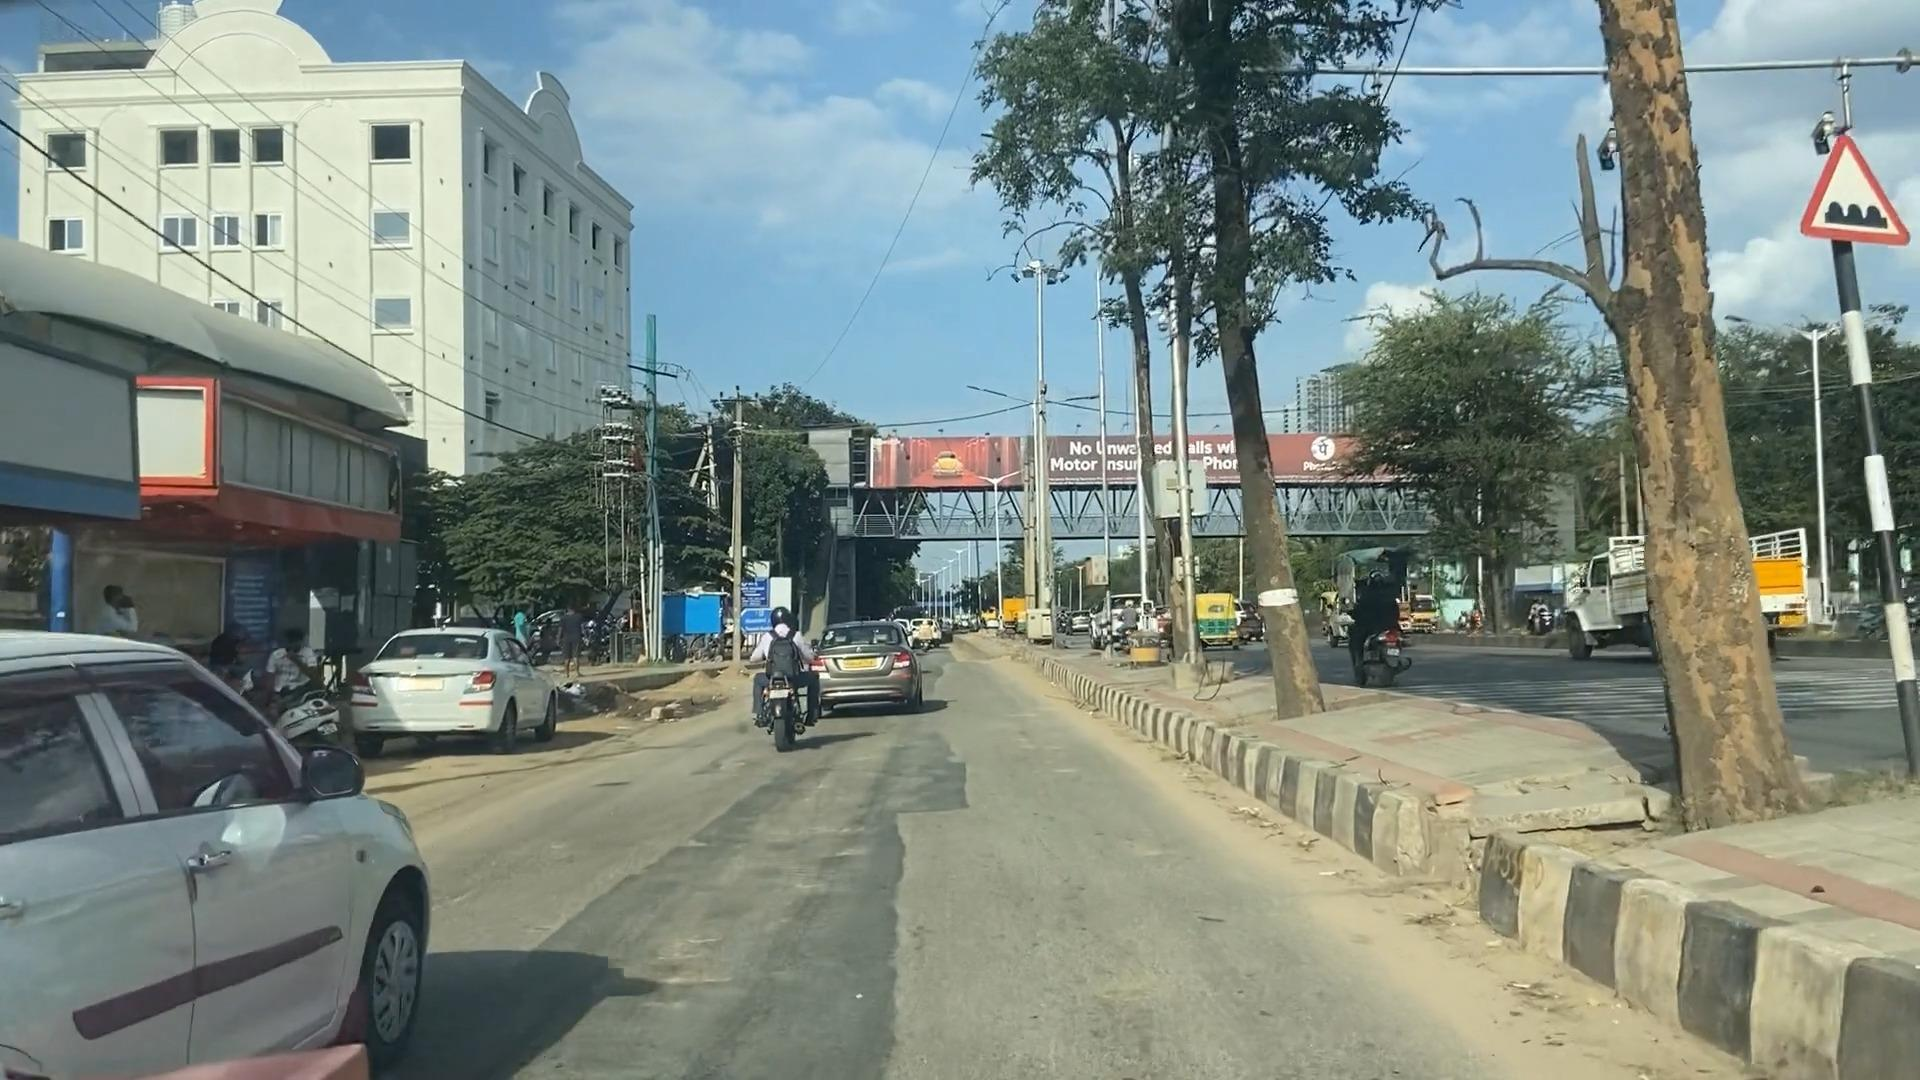LMV: (363, 620, 547, 740), (758, 607, 811, 758)
UnsurfacedRoad: (481, 877, 947, 1046), (658, 781, 965, 857)
